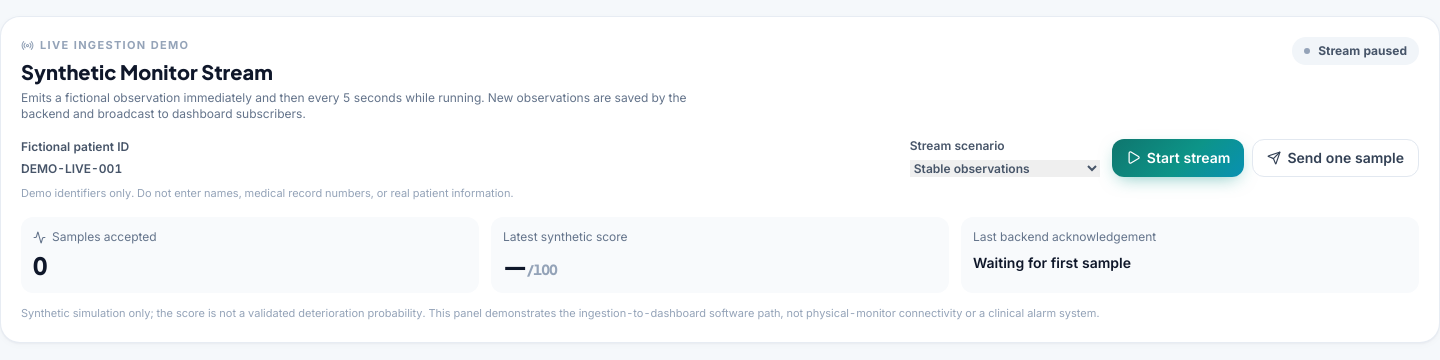
SyntheticMonitorStream › sends one fictional observation and displays the backend acknowledgement
The image size is (1440, 360).
Click the button "Send one sample": (1336, 158) [1252,138,1419,176]
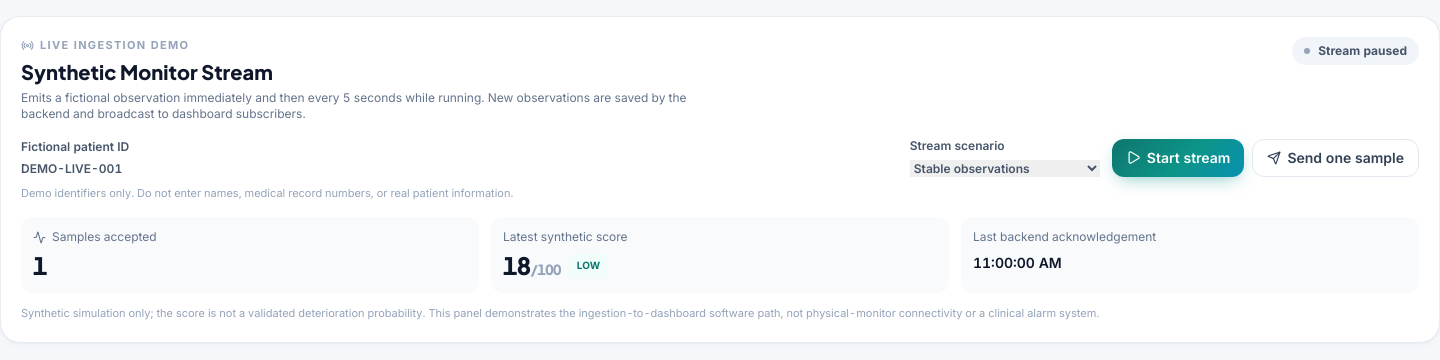
Check: the text "1" is shown, box [33,250,47,280]
Check: the text "low" is shown, box [569,254,608,276]
